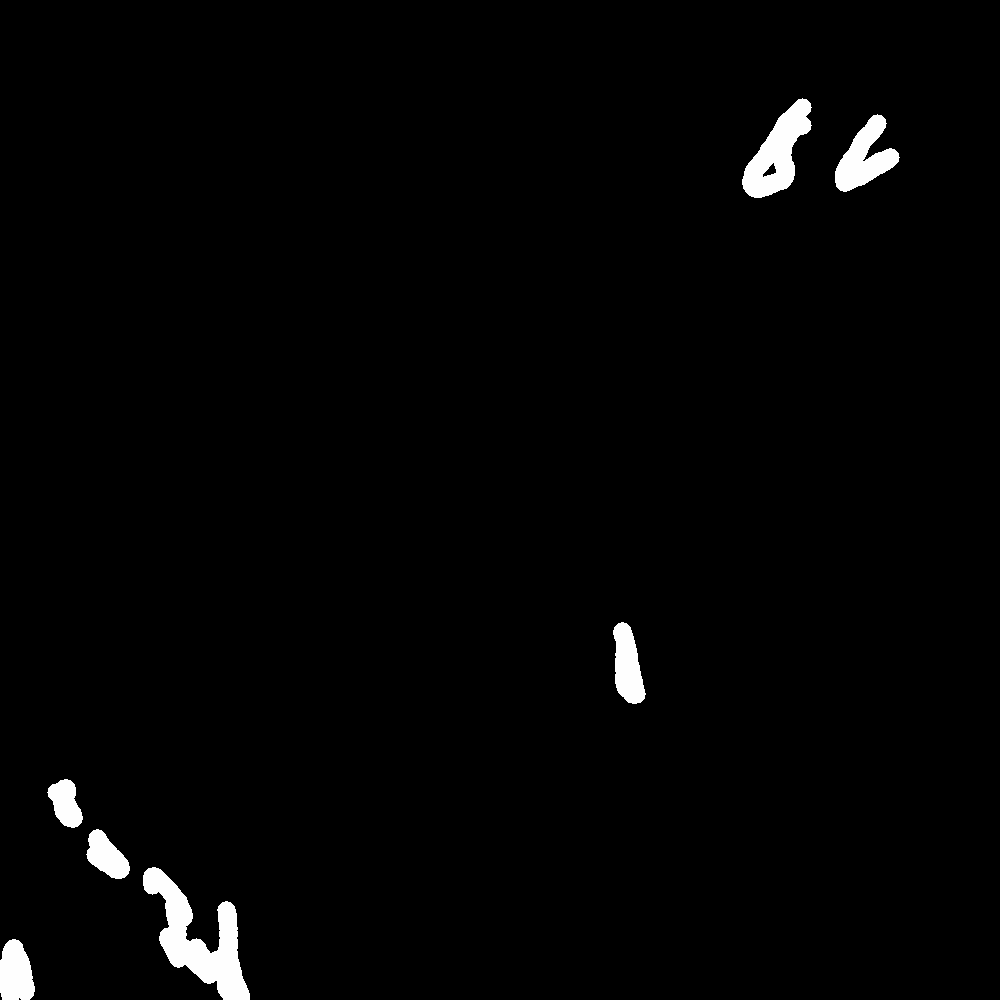illegal: (152, 863, 258, 1000), (52, 789, 173, 896), (609, 622, 647, 694)
